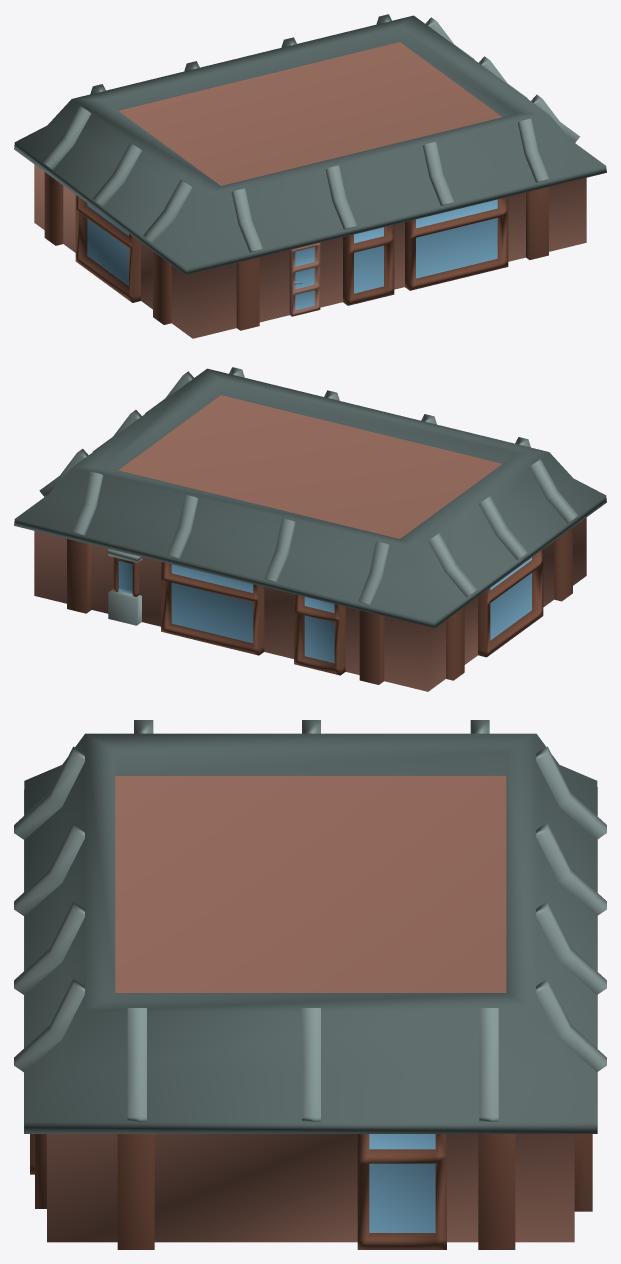
File: McWilderbeest_2.fbx
3 views of the same model, one above another, from view 1: azimuth 30°, elevation 25°; view 2: azimuth 150°, elevation 25°; view 3: azimuth 270°, elevation 25° (orthographic). The views are drawn at different scales.
Parts seen in each view (by area): view 1: McWilderbeest_2; view 2: McWilderbeest_2; view 3: McWilderbeest_2.
Part boxes in pixels (x1,y1,x2,y2): McWilderbeest_2: [14, 14, 606, 338]; McWilderbeest_2: [14, 367, 606, 691]; McWilderbeest_2: [14, 720, 606, 1249].
Bounding box in the file's own units: 1342 × 392 × 963.
1 material, 1 textured.
